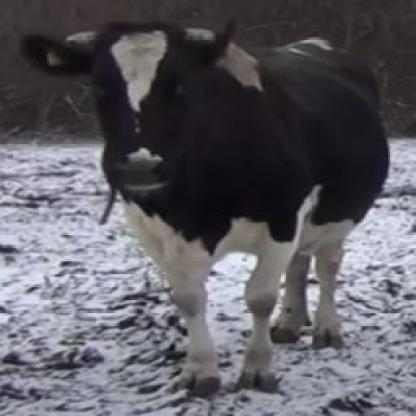cow: (24, 22, 390, 400)
